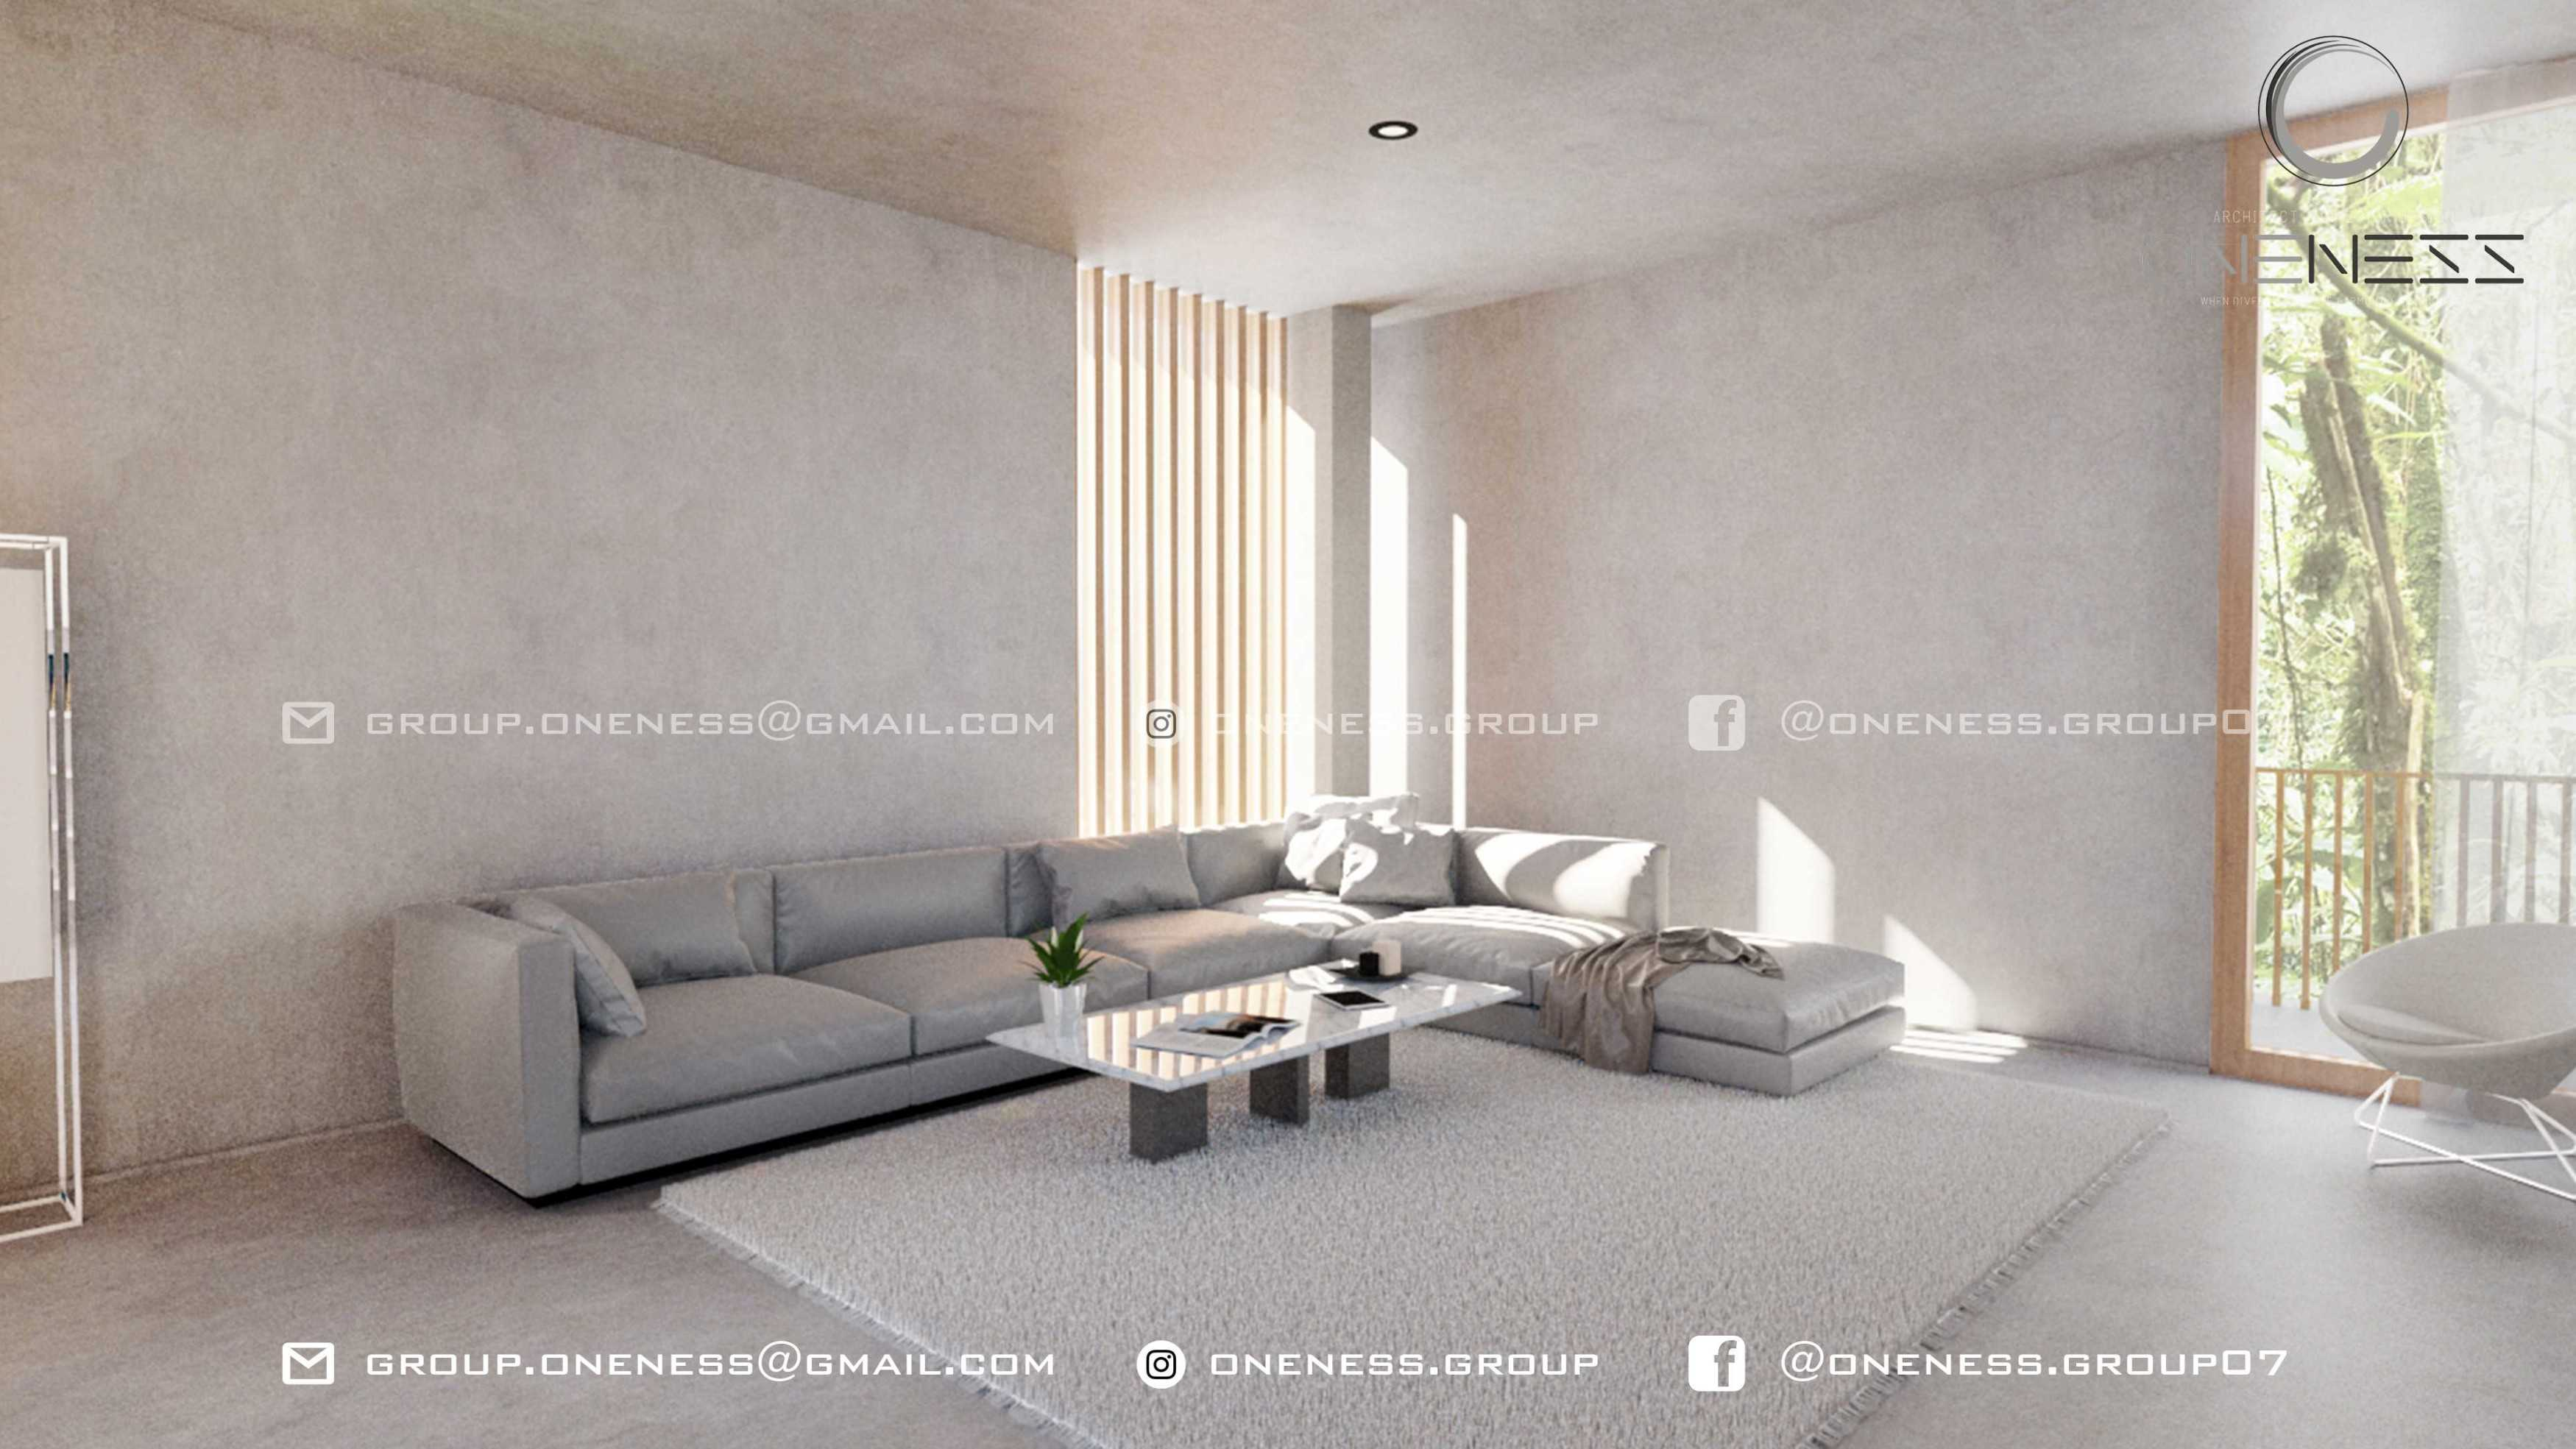bantal: (1039, 832, 1205, 922), (534, 902, 648, 1028), (1346, 817, 1463, 908)
buku: (1136, 1003, 1295, 1058)
gelas: (1355, 938, 1403, 975)
kursi: (2302, 885, 2576, 1200)
meja: (1000, 948, 1507, 1148)
sova: (373, 809, 1964, 1208)
tanaman: (1024, 936, 1099, 1037)
